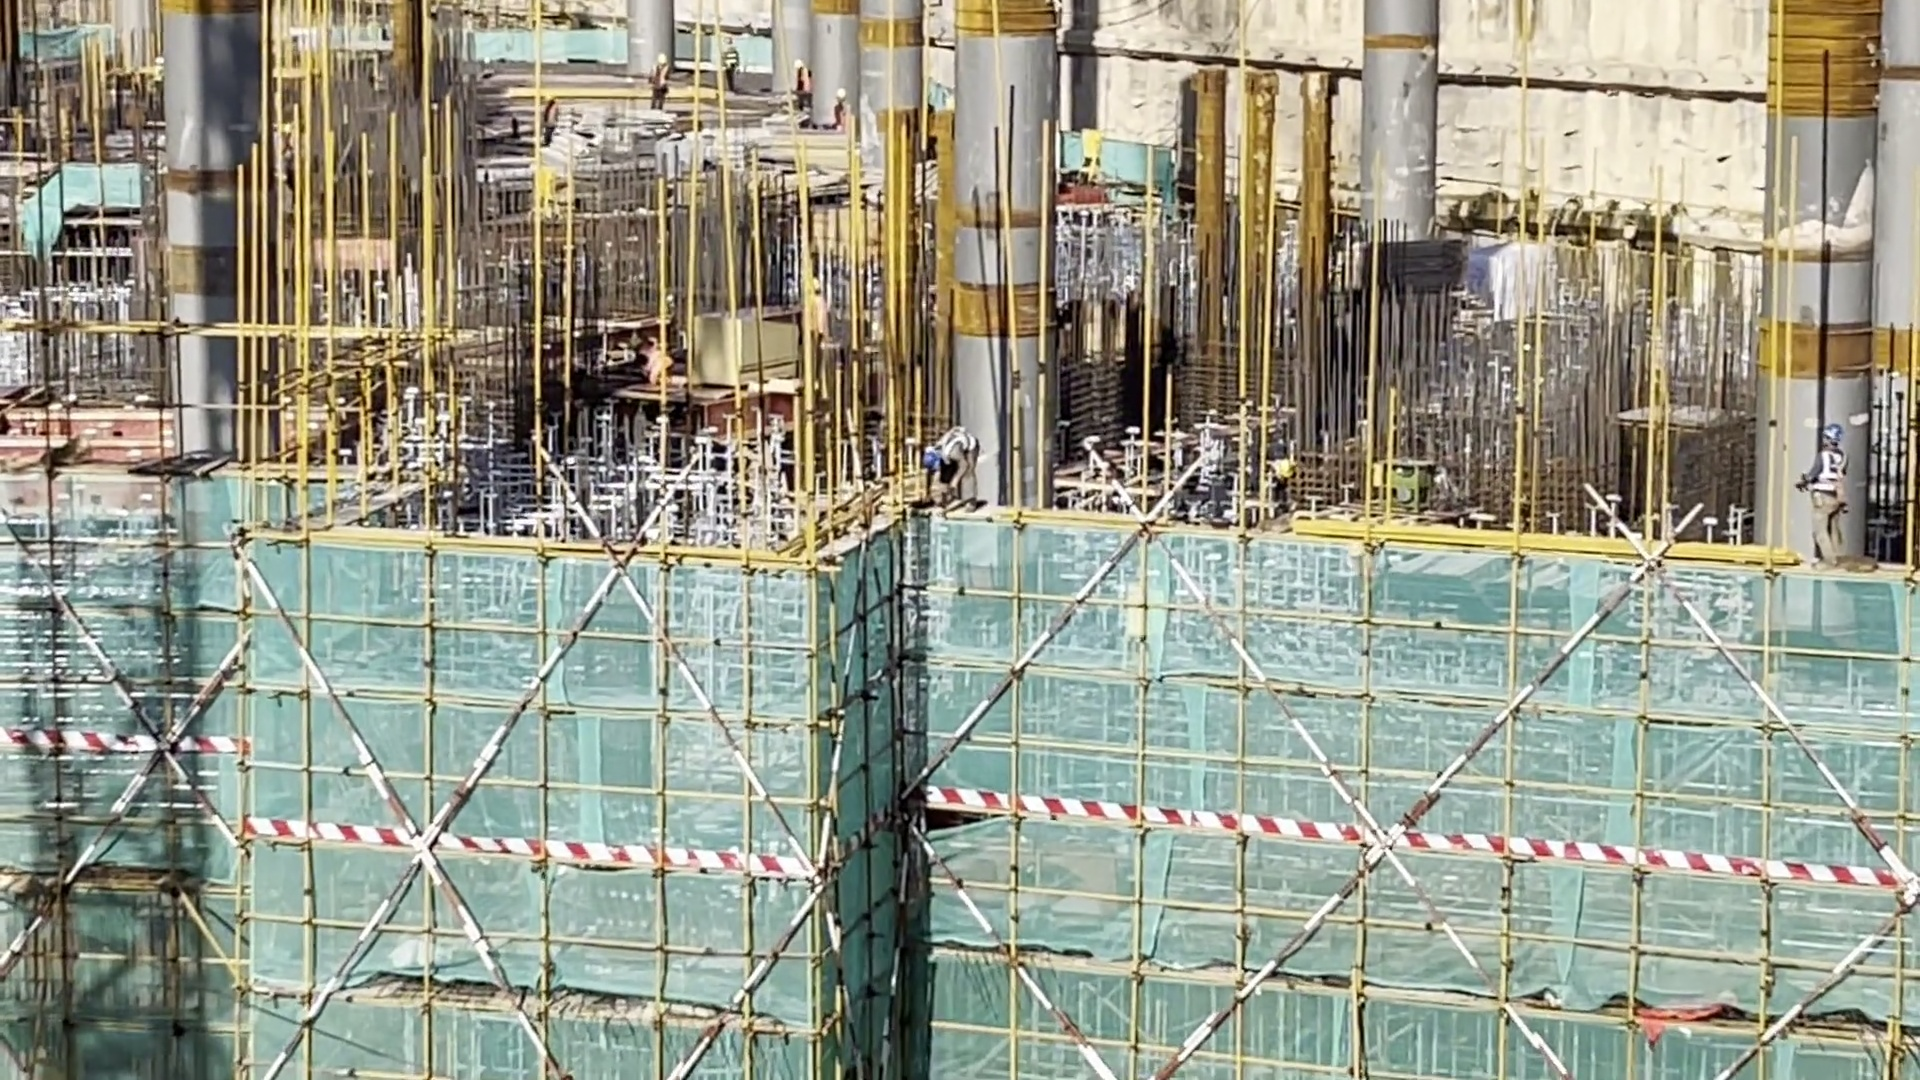helmet: (1274, 456, 1294, 486), (1821, 426, 1846, 447), (926, 446, 944, 466), (796, 58, 808, 73), (656, 52, 667, 63), (722, 34, 733, 48), (543, 89, 552, 102), (838, 88, 846, 100), (626, 349, 634, 360)
person: (1803, 416, 1866, 585), (936, 413, 984, 506), (1248, 451, 1294, 523), (628, 330, 689, 376), (644, 51, 679, 112), (721, 36, 748, 106), (534, 91, 563, 143), (788, 63, 813, 113), (826, 86, 844, 130)
vest: (1814, 444, 1854, 506), (946, 424, 979, 467), (538, 101, 559, 138), (649, 64, 672, 95), (646, 346, 673, 371), (794, 72, 812, 96), (834, 99, 846, 127), (724, 52, 737, 68)
